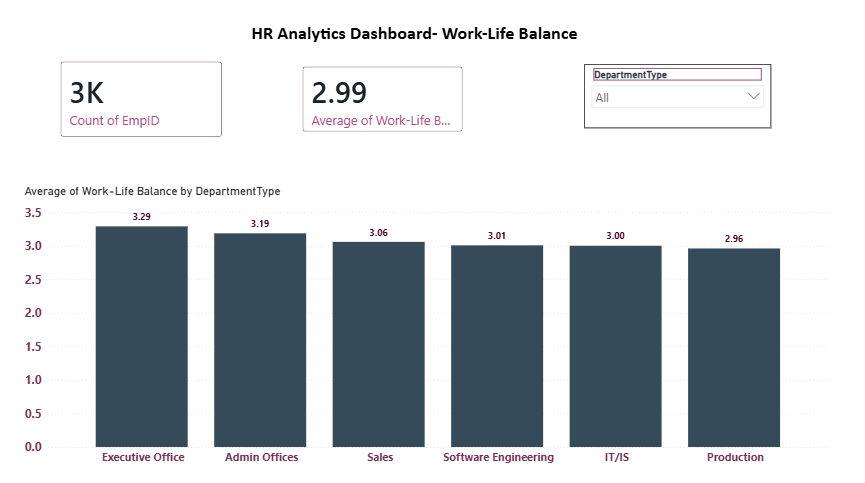

The page's visual inventory and layout, read from the dashboard file:
{"tool":"powerbi","page":{"name":"Work-Life Balance","canvas":[1280,720],"ordinal":2},"visuals":[{"type":"cardVisual","fields":{"Data":["CountNonNull(employee_engagement_survey_data.EmpID)"]},"box":[75.6,80.6,270.4,144.5],"z":0},{"type":"cardVisual","fields":{"Data":["Avg(employee_engagement_survey_data.Work-Life Balance)"]},"box":[430,87.3,268.8,129.3],"z":1000},{"type":"clusteredColumnChart","fields":{"Category":["employee_data.DepartmentType"],"Y":["Avg(employee_engagement_survey_data.Work-Life Balance)"]},"box":[35.3,277.2,1189.3,419.9],"z":1001},{"type":"slicer","fields":{"Values":["employee_data.DepartmentType"]},"box":[858.4,100.8,273.8,94.1],"z":1002},{"type":"textbox","box":[367.9,33.6,613.1,47],"z":1003}]}

Visuals, with their boxes in screenshot pixels (x1, y1, x2, y2), scaled from the page's 1280x720 canvas onto the 865x483 screenshot:
cardVisual - CountNonNull(employee_engagement_survey_data.EmpID): 51/54/234/151
cardVisual - Avg(employee_engagement_survey_data.Work-Life Balance): 291/59/472/145
clusteredColumnChart - employee_data.DepartmentType x Avg(employee_engagement_survey_data.Work-Life Balance): 24/186/828/468
slicer - employee_data.DepartmentType: 580/68/765/131
textbox: 249/23/663/54
